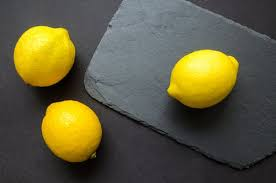Lemon: (164, 49, 240, 113), (9, 22, 79, 89), (42, 99, 94, 161)
